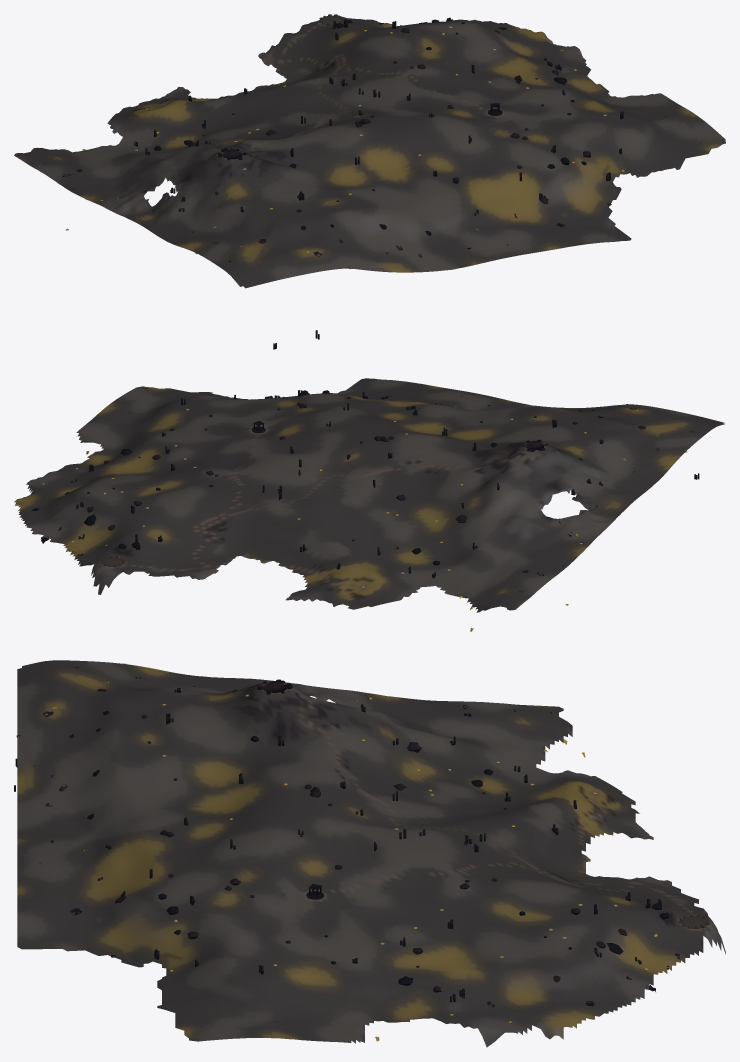
The model's file is ash_isl_vent.glb.
The picture shows the model from 3 angles, top to bottom: view 1: azimuth 30°, elevation 25°; view 2: azimuth 150°, elevation 25°; view 3: azimuth 270°, elevation 25°; orthographic projection. The views are drawn at different scales.
Visible parts, largest first — view 1: ash_isl_vent; view 2: ash_isl_vent; view 3: ash_isl_vent.
Boxes of the visible parts, <box> form: ash_isl_vent: <box>14,14,725,349</box>; ash_isl_vent: <box>14,378,724,631</box>; ash_isl_vent: <box>14,660,725,1047</box>.
Size of the model in its own units: 341 by 59.43 by 316.
